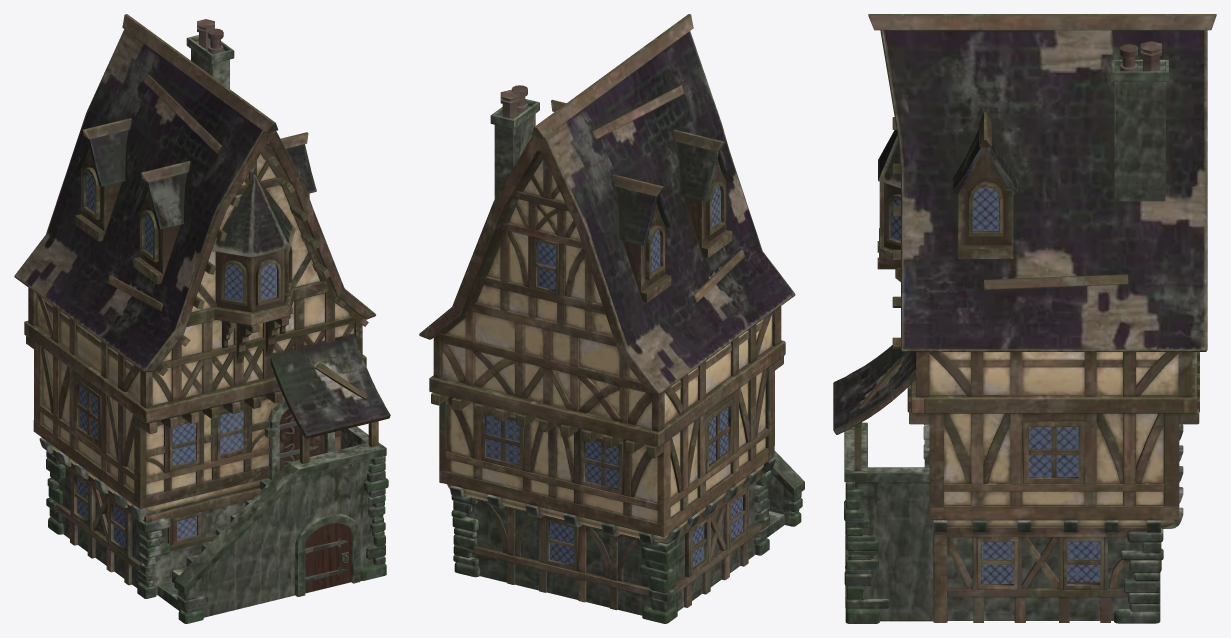
Rendered from townhouse.glb.
3 renders of one model, left to right at view 1: azimuth 30°, elevation 25°; view 2: azimuth 150°, elevation 25°; view 3: azimuth 270°, elevation 25°, orthographic. The views are drawn at different scales.
Parts seen in each view (by area): view 1: defaultMaterial (×3); view 2: defaultMaterial (×3); view 3: defaultMaterial (×3).
Part boxes in pixels (x1,y1,x2,y2): defaultMaterial (×3): [14, 14, 390, 623]; defaultMaterial (×3): [419, 14, 804, 623]; defaultMaterial (×3): [833, 14, 1216, 623].
Bounding box in the file's own units: 6.22 × 12.04 × 7.6.
Materials: 3 (3 with a texture image).
